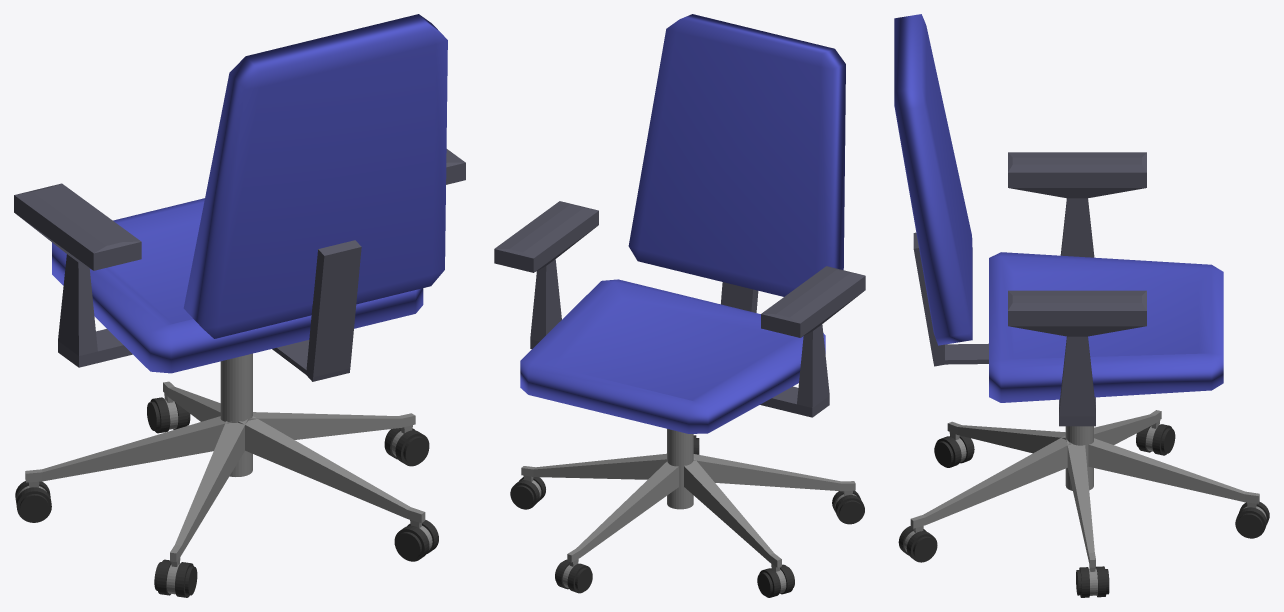
File: Office Chair.fbx
3 renders of one model, left to right at view 1: azimuth 30°, elevation 25°; view 2: azimuth 150°, elevation 25°; view 3: azimuth 270°, elevation 25°, orthographic. The views are drawn at different scales.
Parts seen in each view (by area): view 1: back, seat, arm2, Cube.001, leg.002, leg.004, leg.003, leg.001, Cylinder, leg, Cylinder.016, Cylinder.009 (+3 smaller); view 2: back, seat, arm2, arm1, leg.003, leg, leg.004, leg.001, Cylinder, Cube.001, Cylinder.012, Cylinder.007 (+2 smaller); view 3: seat, back, arm1, arm2, leg.002, leg, leg.003, Cube.001, leg.001, leg.004, Cylinder, Cylinder.003 (+3 smaller).
Boxes of the visible parts, box(x1,y1,x2,y2) form: back: box(183, 14, 447, 338); seat: box(52, 198, 423, 373); arm2: box(14, 183, 141, 367); Cube.001: box(272, 240, 361, 381); leg.002: box(238, 416, 425, 527); leg.004: box(25, 416, 232, 487); leg.003: box(170, 419, 248, 566); leg.001: box(248, 412, 415, 439); Cylinder: box(220, 353, 252, 476); leg: box(163, 381, 220, 421); Cylinder.016: box(16, 487, 51, 522); Cylinder.009: box(394, 525, 429, 561); back: box(628, 14, 845, 296); seat: box(520, 279, 825, 433); arm2: box(760, 266, 865, 417); arm1: box(494, 201, 598, 348); leg.003: box(693, 454, 855, 495); leg: box(567, 461, 678, 566); leg.004: box(684, 458, 781, 571); leg.001: box(521, 453, 666, 481); Cylinder: box(667, 429, 693, 509); Cube.001: box(721, 282, 758, 312); Cylinder.012: box(835, 495, 864, 524); Cylinder.007: box(510, 480, 539, 509); seat: box(989, 252, 1223, 402); back: box(894, 14, 972, 345); arm1: box(1008, 290, 1146, 426); arm2: box(1008, 152, 1146, 257); leg.002: box(910, 435, 1072, 532); leg: box(1088, 438, 1259, 507); leg.003: box(947, 421, 1066, 453); Cube.001: box(913, 232, 988, 366); leg.001: box(1066, 439, 1095, 571); leg.004: box(1094, 410, 1161, 444); Cylinder: box(1065, 426, 1093, 490); Cylinder.003: box(1235, 507, 1266, 538).
Bounding box in the file's own units: 1072 × 1463 × 1056.
